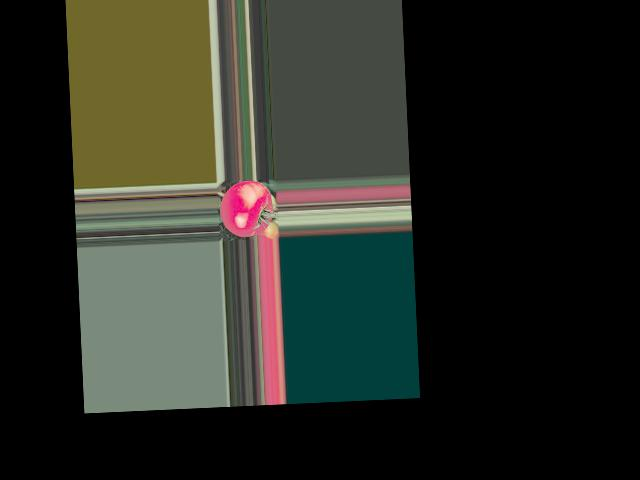tomato: (218, 179, 273, 237)
